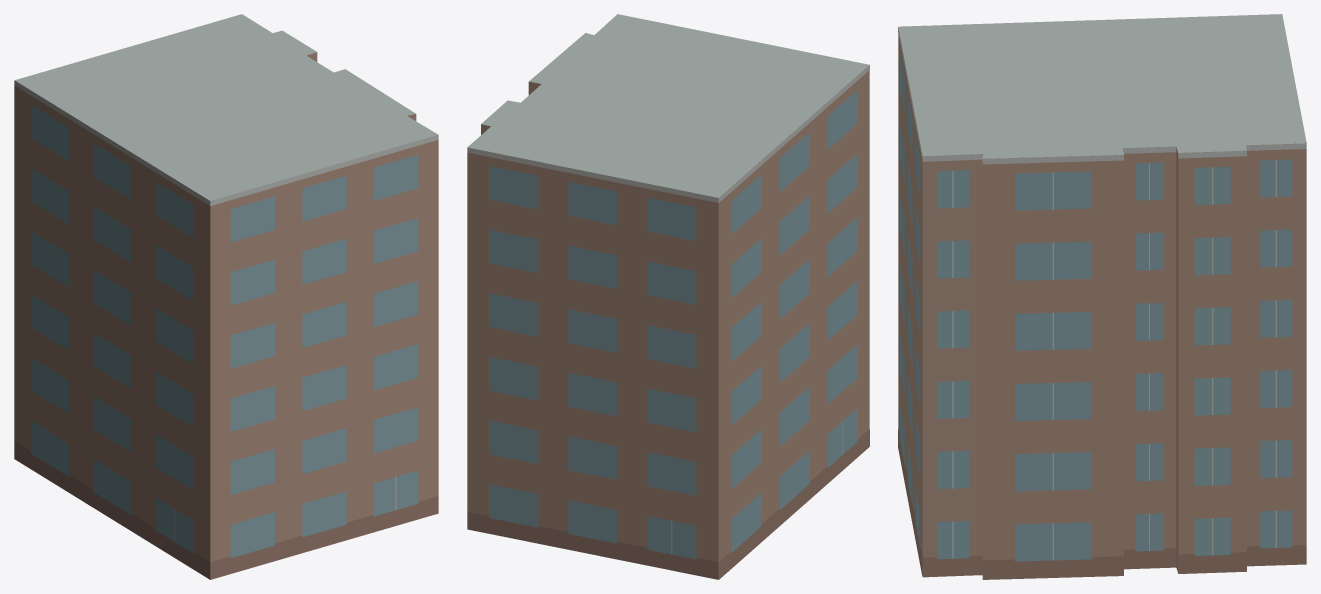
The model's file is survey-upis-32754619.glb.
3 views of the same model, side by side, from view 1: azimuth 30°, elevation 25°; view 2: azimuth 150°, elevation 25°; view 3: azimuth 270°, elevation 25° (orthographic). The views are drawn at different scales.
Parts seen in each view (by area): view 1: survey-upis-32754619.tmp; view 2: survey-upis-32754619.tmp; view 3: survey-upis-32754619.tmp.
Part boxes in pixels (box(x1,y1,x2,y2)): survey-upis-32754619.tmp: box(14, 14, 438, 579); survey-upis-32754619.tmp: box(467, 14, 869, 579); survey-upis-32754619.tmp: box(898, 14, 1306, 579).
Bounding box in the file's own units: 13.51 × 18.3 × 16.11.
